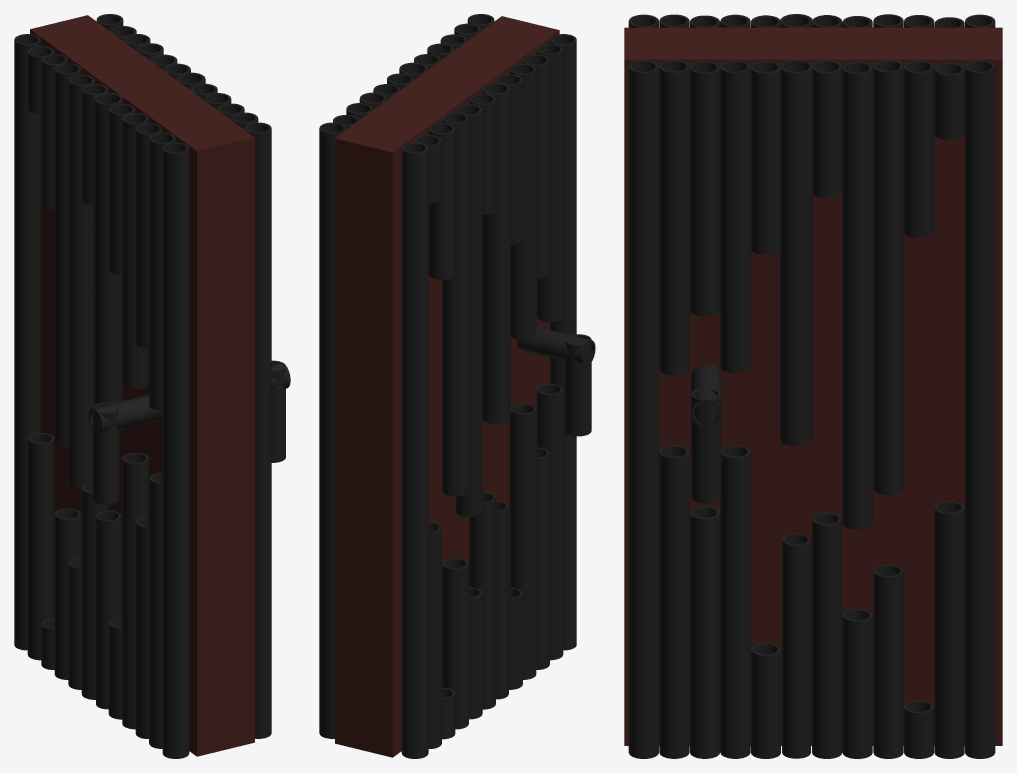
The model's file is FactoryDoor.FBX.
3 renders of one model, left to right at view 1: azimuth 30°, elevation 25°; view 2: azimuth 150°, elevation 25°; view 3: azimuth 270°, elevation 25°, orthographic. The views are drawn at different scales.
Parts seen in each view (by area): view 1: Box001, Tube065, Tube072, Tube060, Tube064, Tube067, Tube061, Tube051, Tube048, Tube052, Tube024, Tube057 (+18 smaller); view 2: Box001, Tube064, Tube052, Tube061, Tube067, Tube057, Tube065, Tube069, Tube040, Tube016, Tube059, Tube071 (+17 smaller); view 3: Box001, Tube041, Tube037, Tube043, Tube048, Tube040, Tube016, Tube024, Tube047, Tube023, Tube045, Tube021 (+15 smaller).
Boxes of the visible parts, x1,y1,x2,y2 form: Box001: (30,15,254,756); Tube065: (68,74,94,487); Tube072: (162,142,189,456); Tube060: (162,451,189,758); Tube064: (14,34,40,347); Tube067: (94,92,122,431); Tube061: (54,63,81,446); Tube051: (27,433,54,660); Tube048: (245,122,271,436); Tube052: (14,343,40,650); Tube024: (255,431,271,738); Tube057: (122,453,148,729); Box001: (335,16,559,757); Tube064: (401,142,428,456); Tube052: (401,451,428,758); Tube061: (442,112,468,496); Tube067: (481,82,510,423); Tube057: (509,403,536,679); Tube065: (455,104,482,516); Tube069: (509,63,536,339); Tube040: (319,122,345,436); Tube016: (319,431,334,738); Tube059: (536,383,563,660); Tube071: (536,44,563,321); Box001: (624,27,1002,745); Tube041: (842,61,872,529); Tube037: (873,60,903,494); Tube043: (780,59,812,446); Tube048: (628,60,658,415); Tube040: (965,60,995,415); Tube016: (965,410,995,758); Tube024: (628,410,658,758); Tube047: (659,60,689,375); Tube023: (659,445,689,758); Tube045: (720,60,750,373); Tube021: (720,445,750,758).
Bounding box in the file's own units: 12.89 × 39.39 × 19.69.
